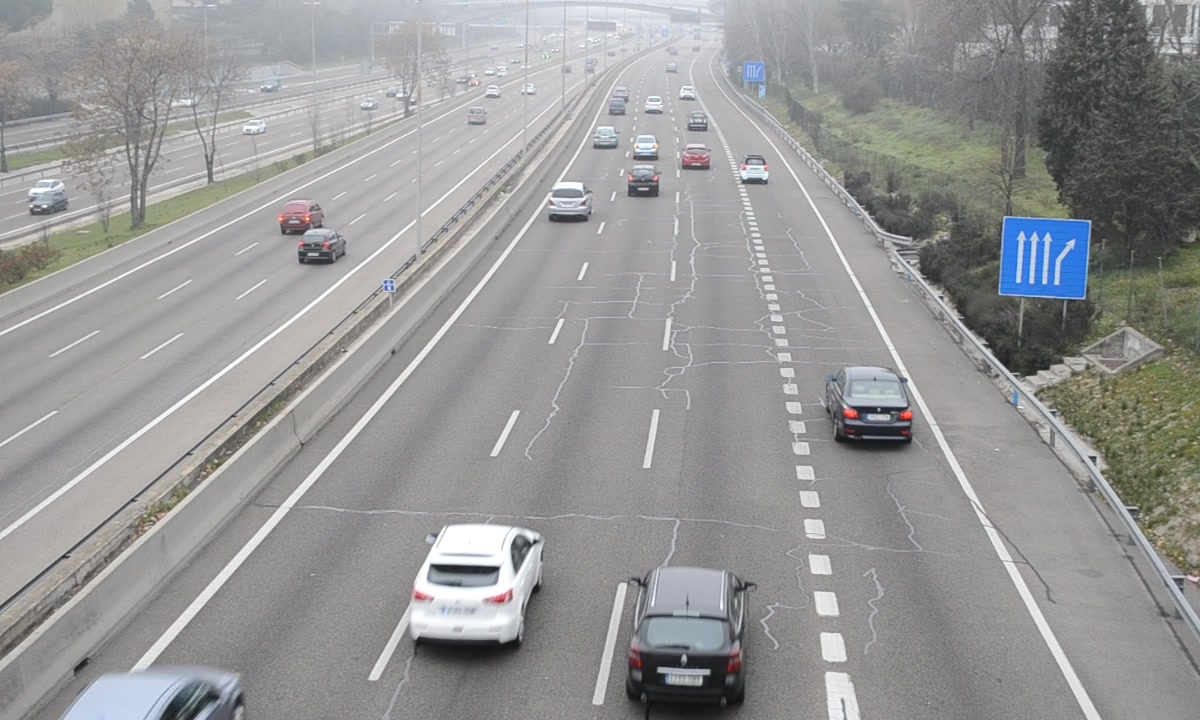car: (409, 525, 545, 655), (627, 566, 748, 696), (826, 364, 917, 449), (546, 182, 593, 223), (626, 165, 661, 199), (739, 153, 771, 186), (681, 143, 712, 172), (591, 126, 621, 151), (632, 134, 659, 160)
